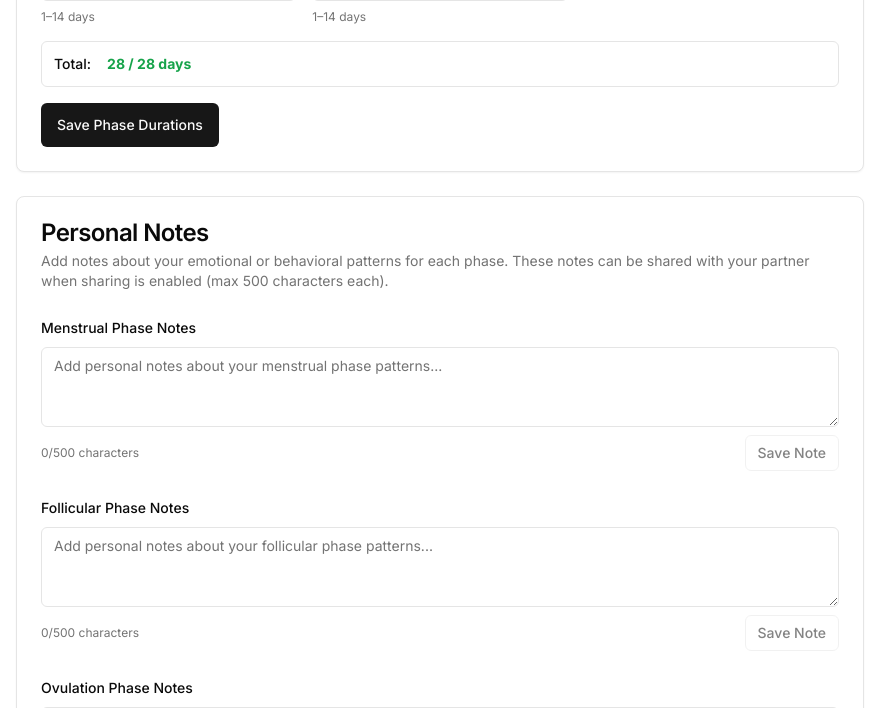
Test: CustomizePage › shows note save error from server
This screenshot has width=881, height=708.
(page scrolled)
Note: Type a note
Step 1. Type "Test note" into the text box labelled "Menstrual Phase Notes" → (440, 387), box [41,347,839,427]
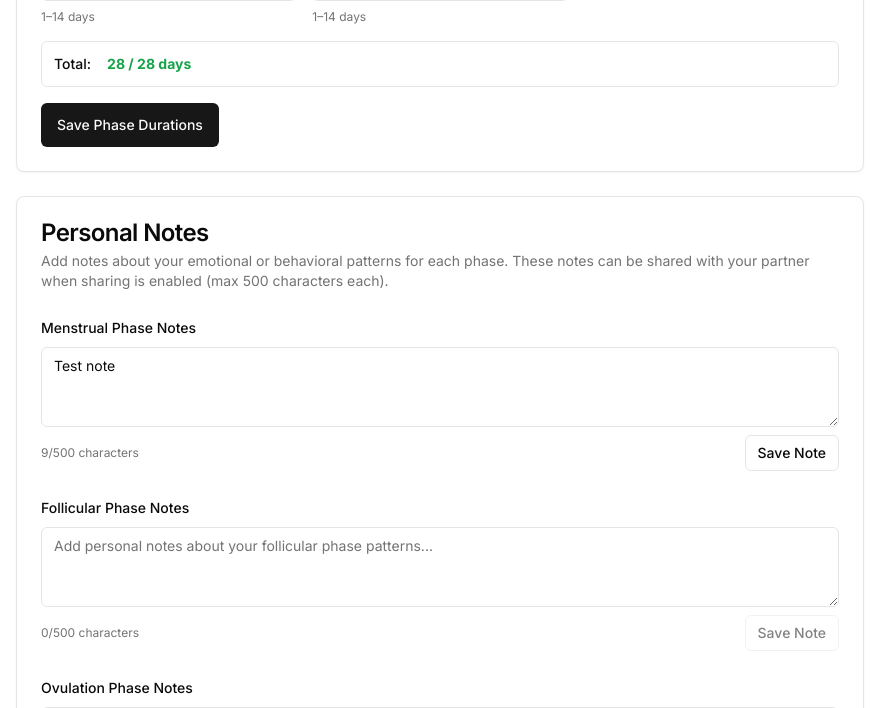
Step 2. Click the 1st button "Save Note" → (792, 453), box [745,435,839,471]
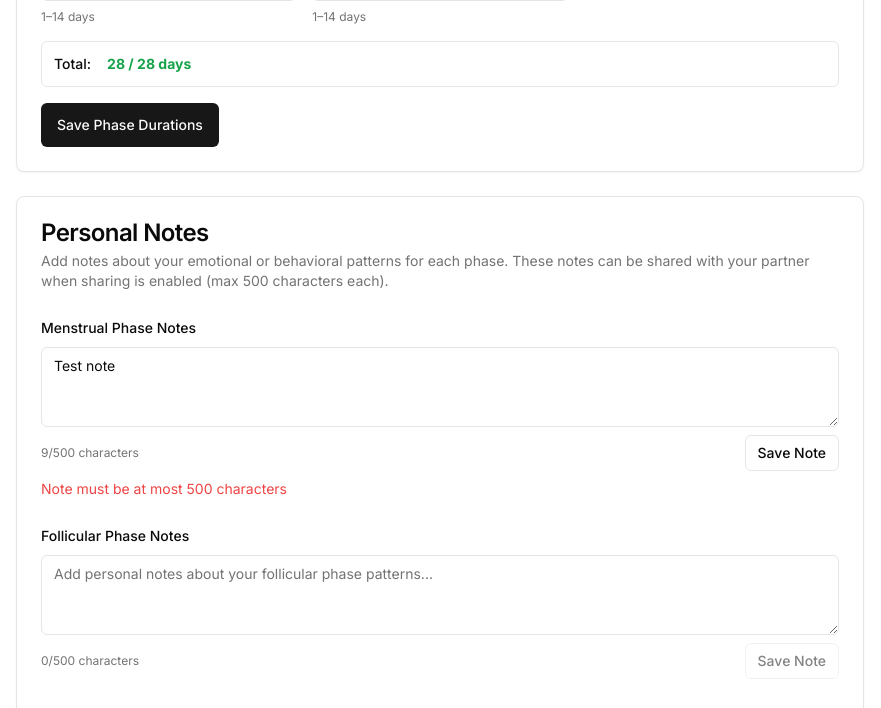
Now the message with test id "note-error-menstrual" reads "Note must be at most 500 characters", box [41,480,287,497]
